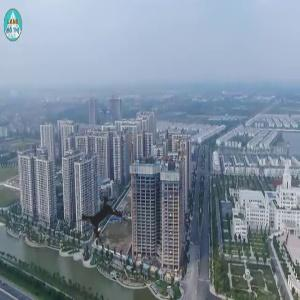drone: (60, 172, 150, 262)
